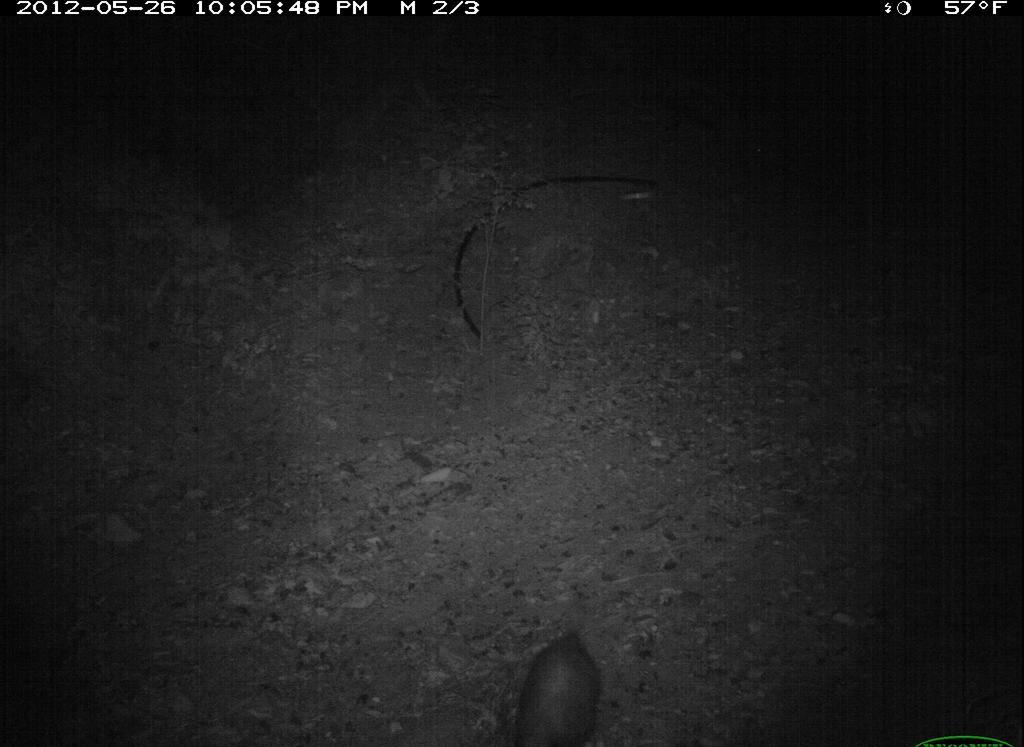opossum: (498, 612, 621, 747)
